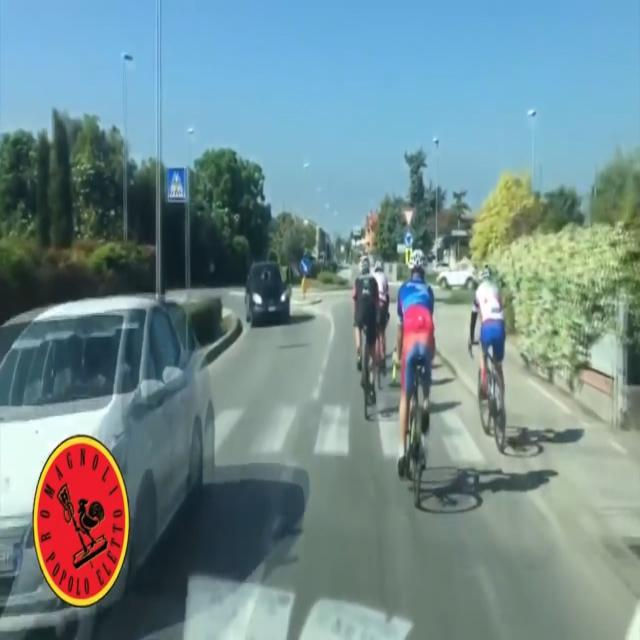Pedestrian crosswalk: (198, 389, 496, 478), (167, 166, 187, 203)
